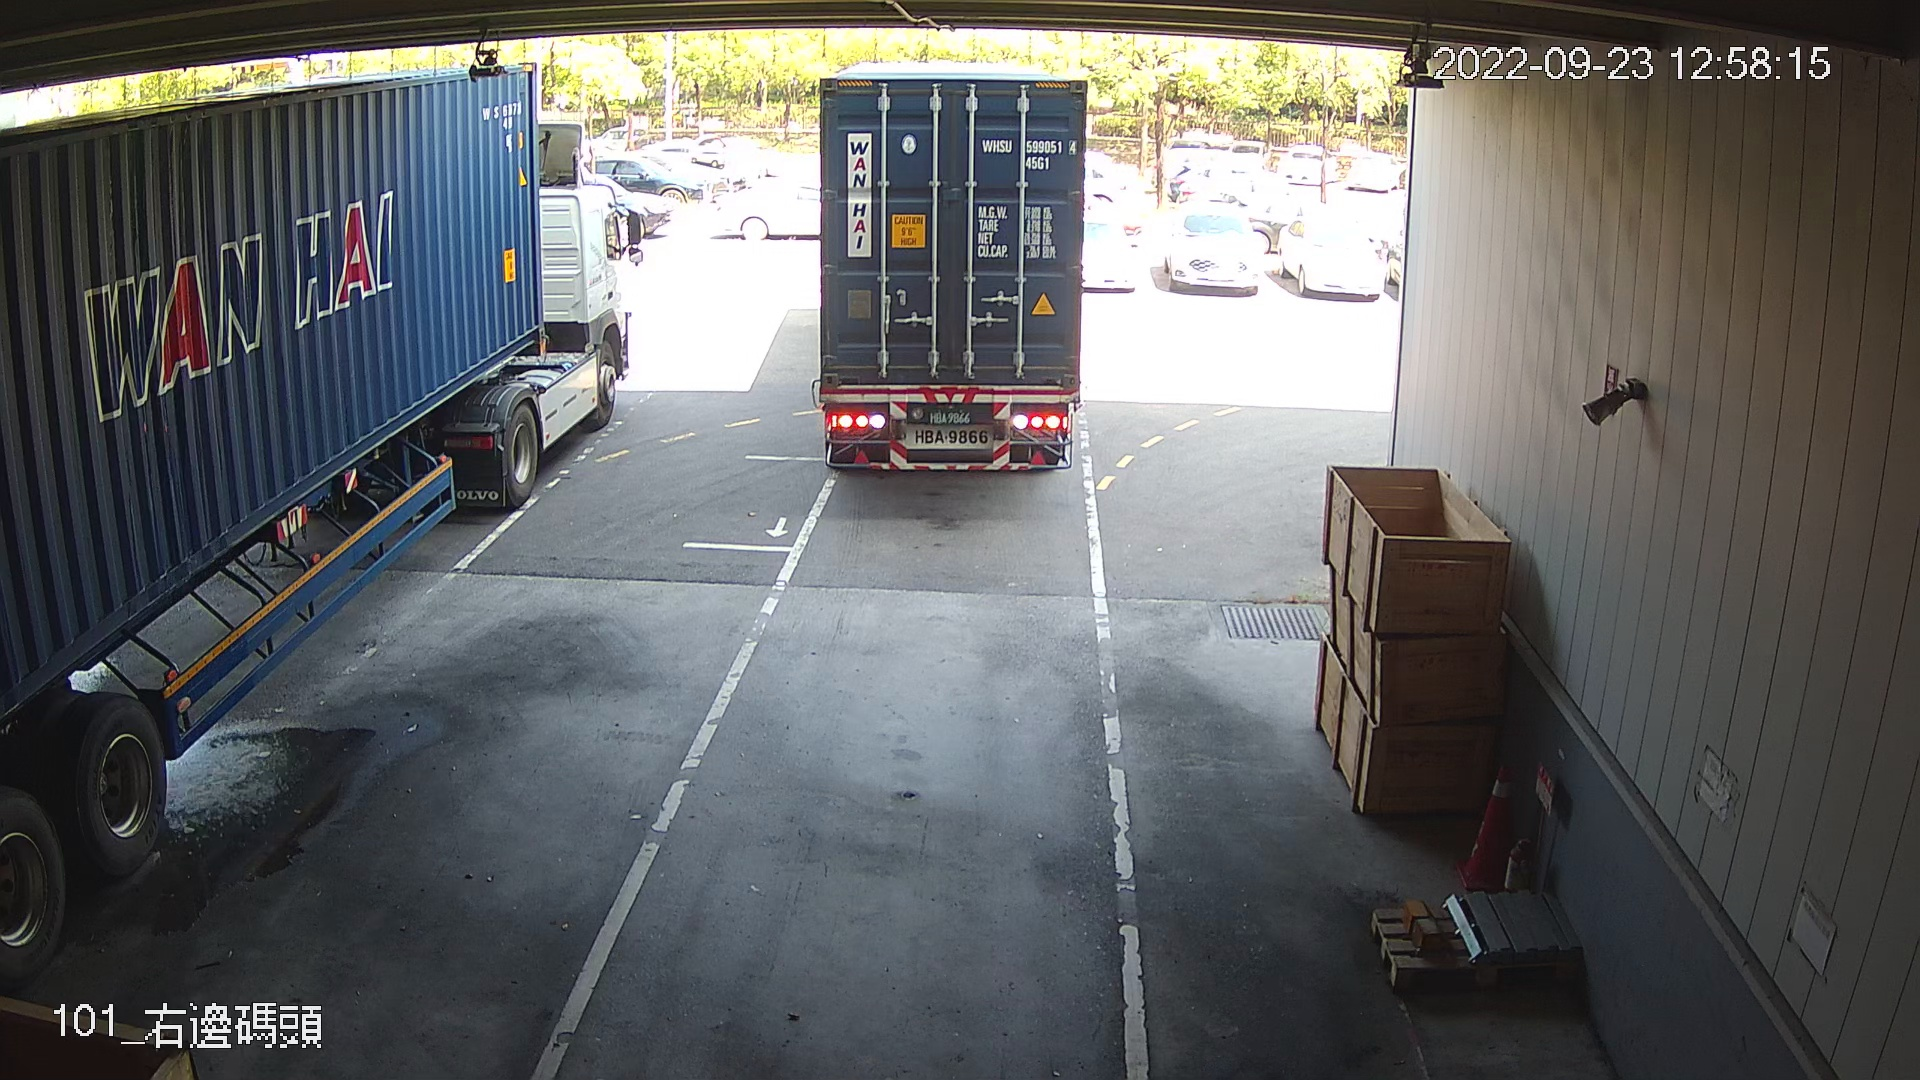container: (978, 131, 1077, 177)
